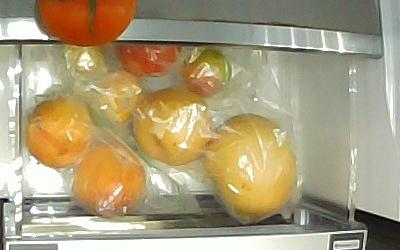peach_vinyl: (71, 141, 147, 209), (24, 94, 92, 168)
pear_vinyl: (202, 112, 296, 217), (130, 85, 212, 168)
tangerine_vinyl: (94, 68, 144, 123), (64, 46, 106, 78)
tomato_vinyl: (179, 47, 232, 96), (113, 43, 182, 76)
